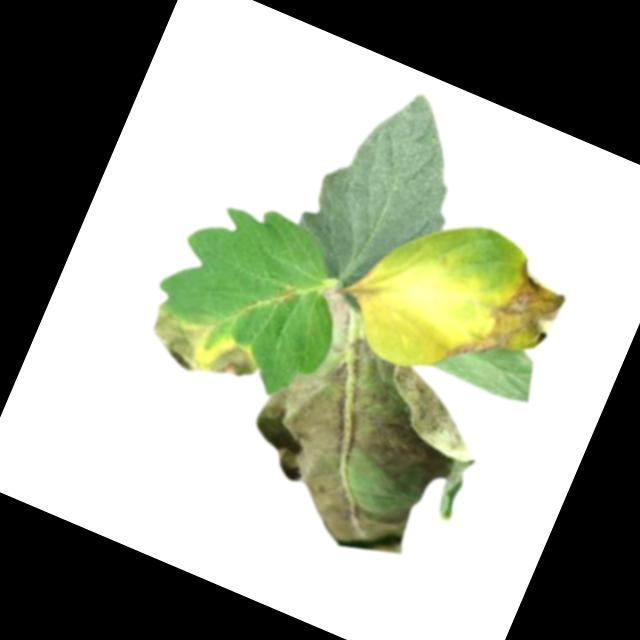Late_blight: (223, 313, 502, 582), (438, 244, 575, 402), (139, 298, 269, 395), (311, 281, 364, 333), (270, 279, 302, 312)
